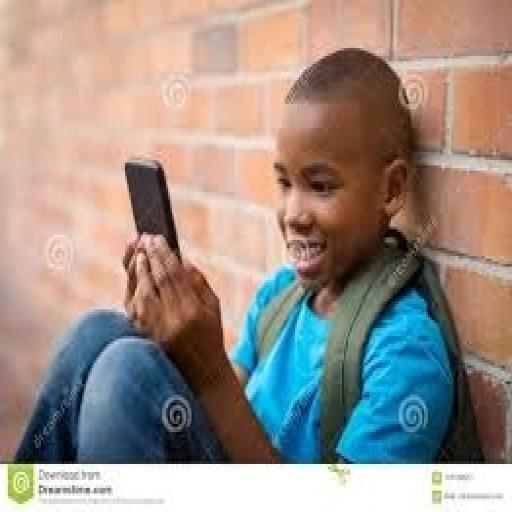texting: (12, 43, 475, 464)
